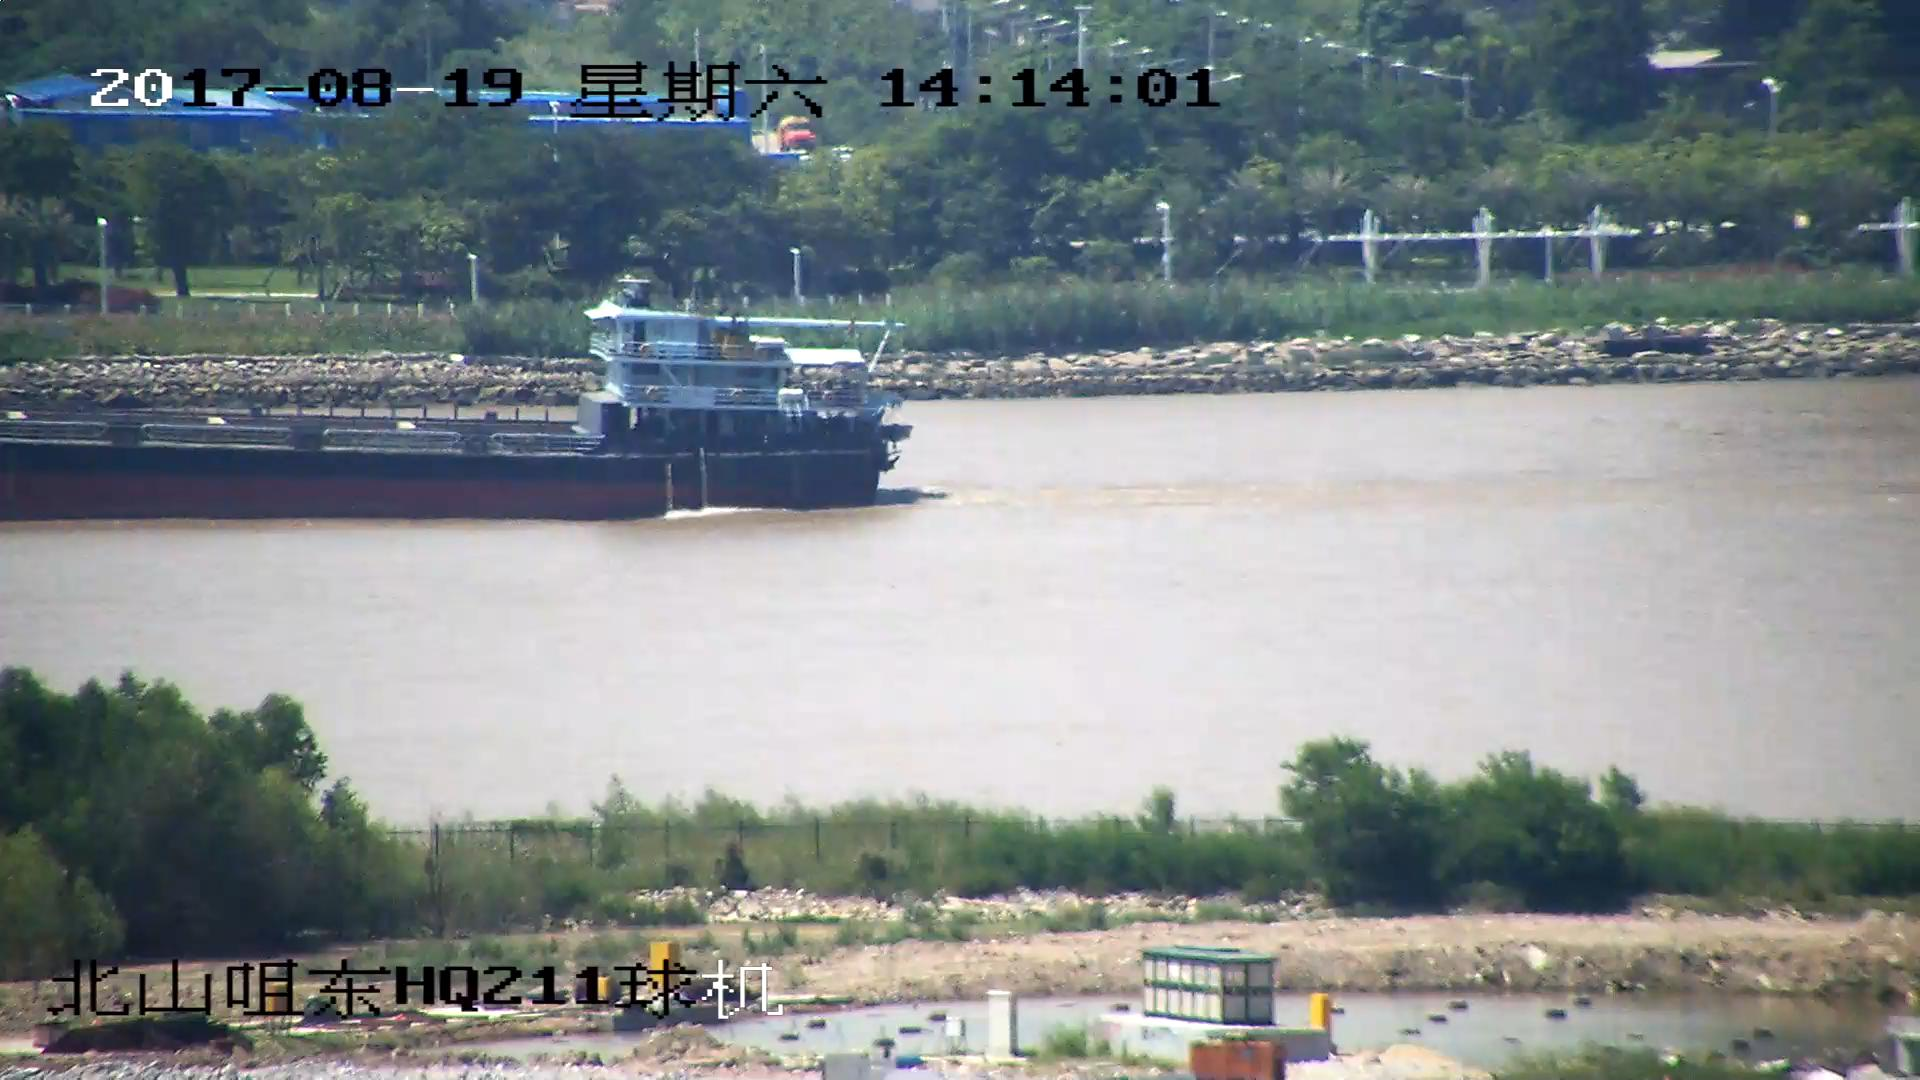bulk cargo carrier: (1, 282, 904, 519)
